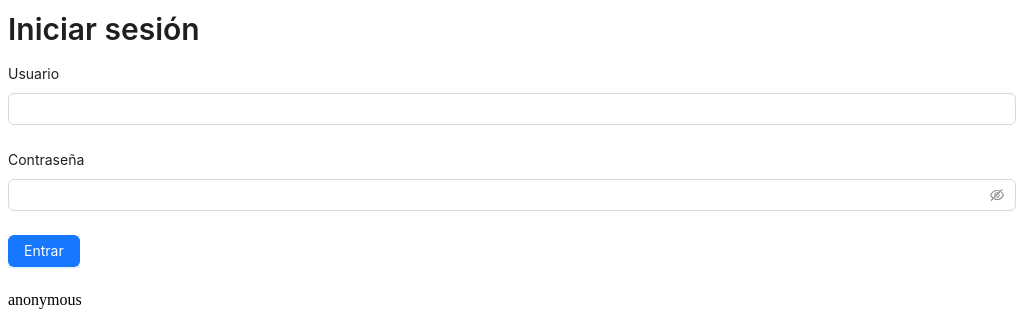
Test: LoginForm › blocks empty submit with inline required errors and no session
The width and height of the screenshot is (1024, 326).
Click the button "Entrar" at (44, 251), box [8,235,80,267]
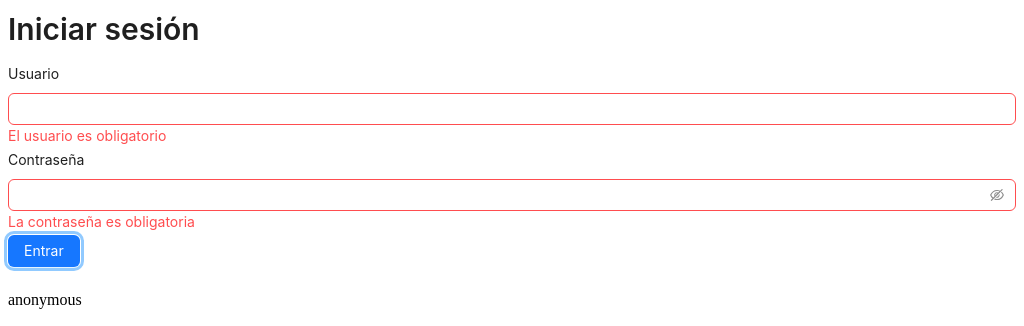
Expected: the text with test id "role" reads "anonymous", [8,291,82,308]
Expected: the text "El usuario es obligatorio" is shown, [8,127,166,144]
Expected: the text "La contraseña es obligatoria" is shown, [8,213,195,230]
